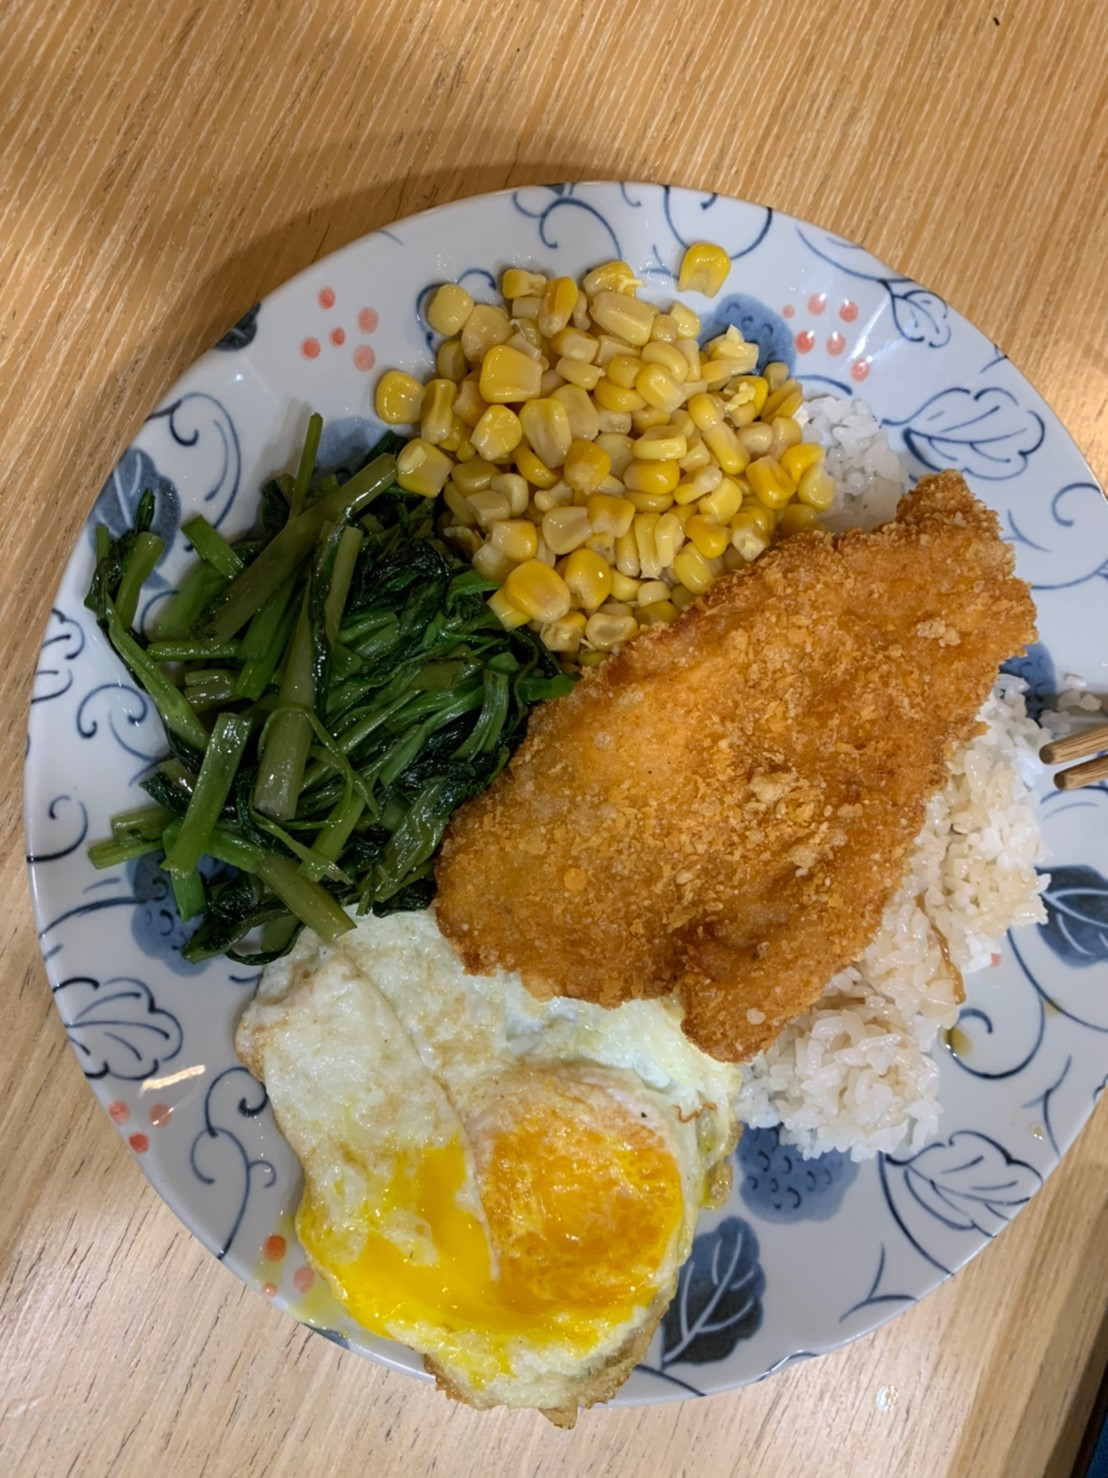fried_chicken: (420, 464, 1043, 1075)
fried_eggs: (251, 986, 736, 1364)
rice: (797, 858, 1027, 1150)
water_spinach: (108, 466, 489, 904)
